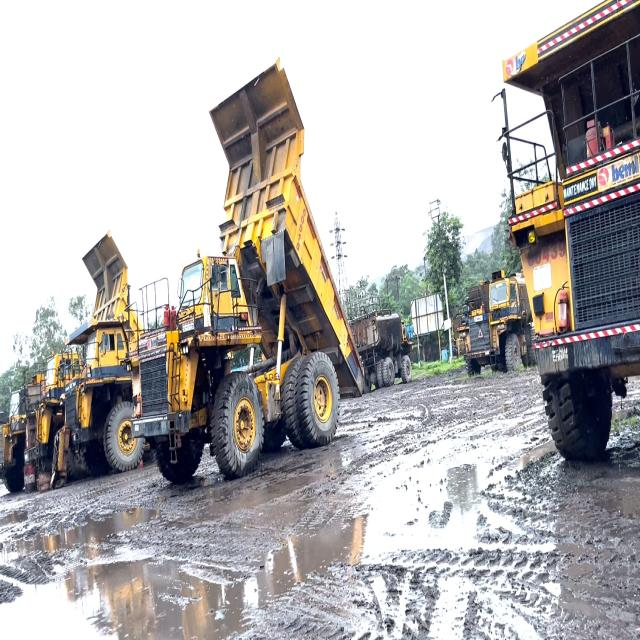dump_truck: (134, 36, 367, 467), (503, 0, 640, 453), (460, 273, 526, 374), (64, 334, 118, 357)
